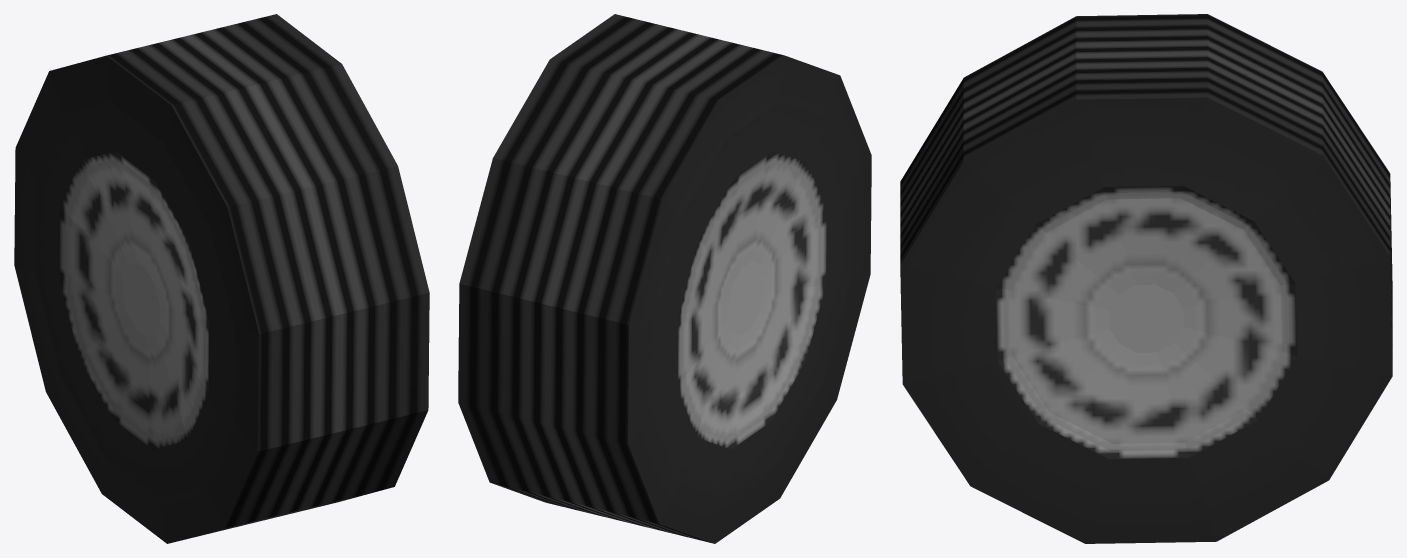
Rendered from Vehicles_GavrilGrandMarshalWheel.fbx.
The picture shows the model from 3 angles, left to right: view 1: azimuth 30°, elevation 25°; view 2: azimuth 150°, elevation 25°; view 3: azimuth 270°, elevation 25°; orthographic projection.
Visible parts, largest first — view 1: GavrilWheel.001; view 2: GavrilWheel.001; view 3: GavrilWheel.001.
Boxes of the visible parts, x1=… form: GavrilWheel.001: x1=14, y1=14, x2=429, y2=543; GavrilWheel.001: x1=458, y1=14, x2=871, y2=543; GavrilWheel.001: x1=900, y1=14, x2=1392, y2=543.
Size of the model in its own units: 0.3104 by 0.7456 by 0.7456.
